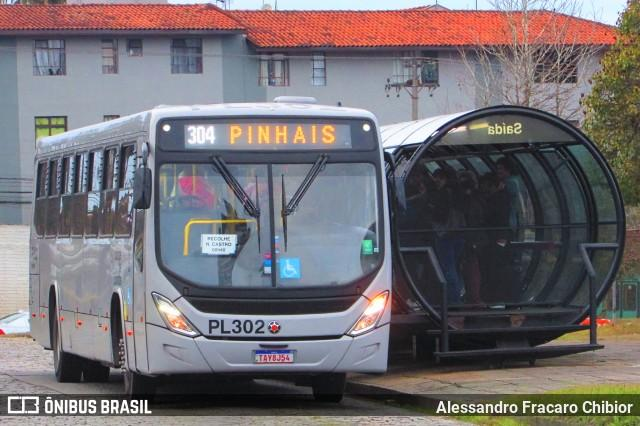PINHAIS: (224, 119, 339, 146)
